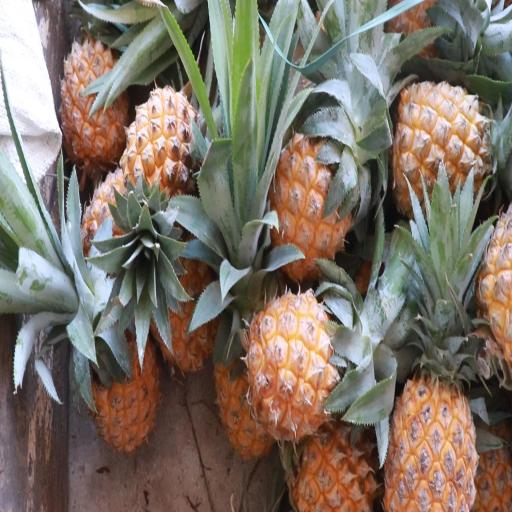Pineapple - v8 v1: (382, 281, 478, 512), (242, 276, 347, 447), (390, 75, 494, 227), (263, 118, 357, 286), (82, 270, 166, 457), (148, 205, 227, 381), (283, 388, 386, 512), (117, 80, 205, 216), (57, 26, 132, 168)
